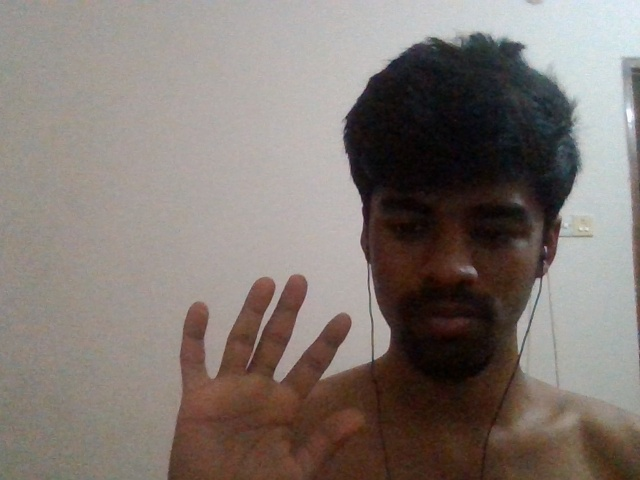Hello: (168, 268, 381, 480)
